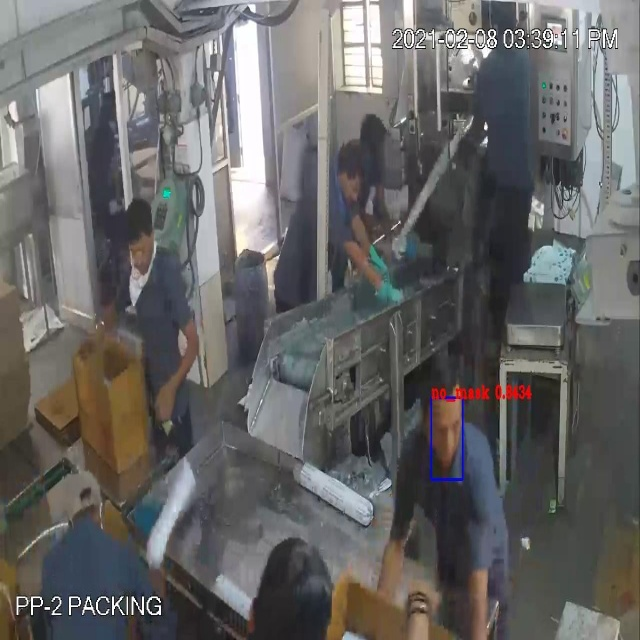Guantes: (339, 237, 413, 306)
Sin_guantes: (145, 311, 202, 437), (371, 508, 411, 620), (463, 536, 498, 640), (77, 299, 130, 364)
